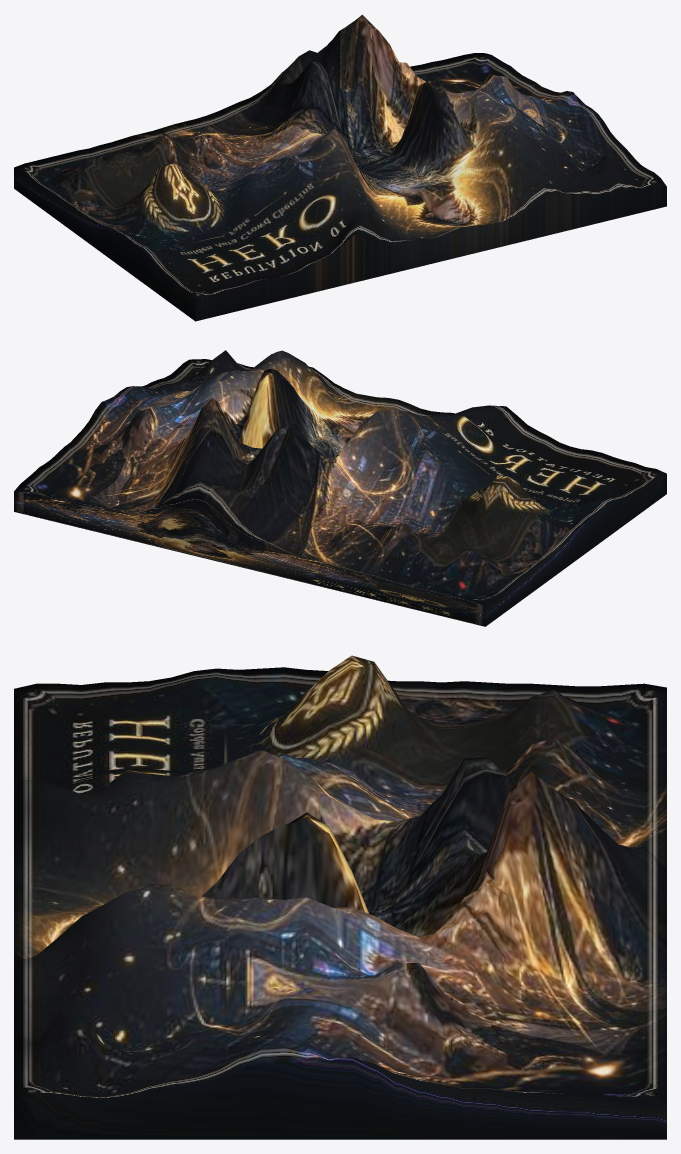
Rendered from REPUTATION_01_Hero.glb.
3 views of the same model, one above another, from view 1: azimuth 30°, elevation 25°; view 2: azimuth 150°, elevation 25°; view 3: azimuth 270°, elevation 25° (orthographic). The views are drawn at different scales.
Visible parts, largest first — view 1: REPUTATION_01_Hero; view 2: REPUTATION_01_Hero; view 3: REPUTATION_01_Hero.
Part boxes in pixels (x1,y1,x2,y2): REPUTATION_01_Hero: (14, 14, 666, 321); REPUTATION_01_Hero: (14, 350, 666, 626); REPUTATION_01_Hero: (14, 655, 666, 1139).
Bounding box in the file's own units: 2 × 0.51 × 1.33.
Materials: 1 (1 with a texture image).
